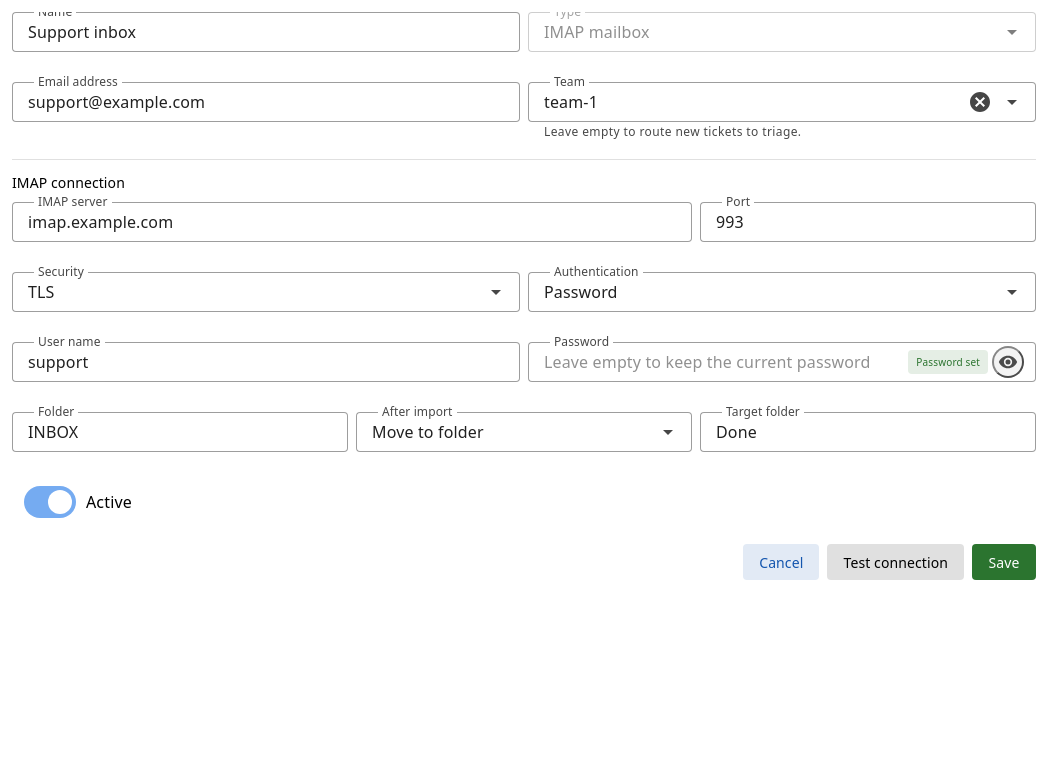
Test case: InboundMailboxForm (FE-057, FE-005) › Test connection validates, then reports the result in plain words
Click the button "Test connection": (896,562) [827,544,964,580]
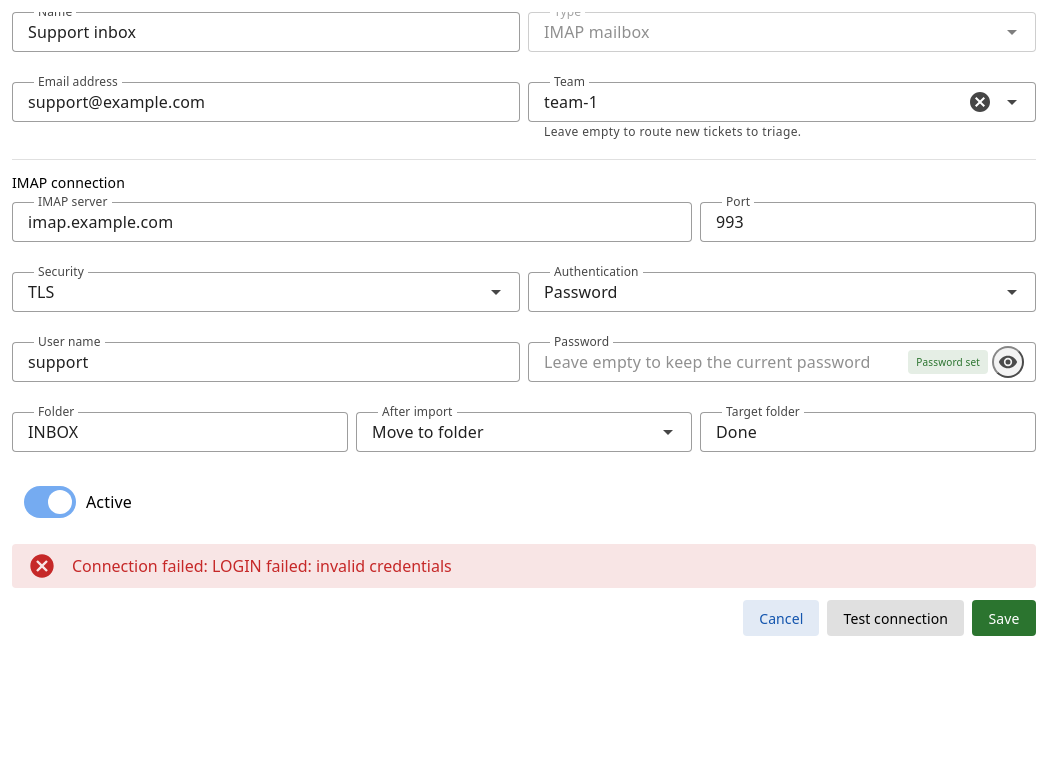
Expected: the message "Connection failed: LOGIN failed: invalid credentials" is shown, [12,544,1036,588]
